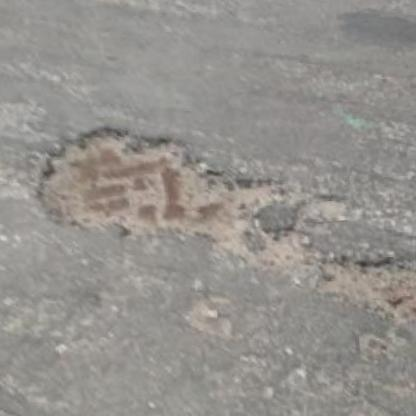pothole: (25, 106, 312, 294), (310, 242, 416, 329)
